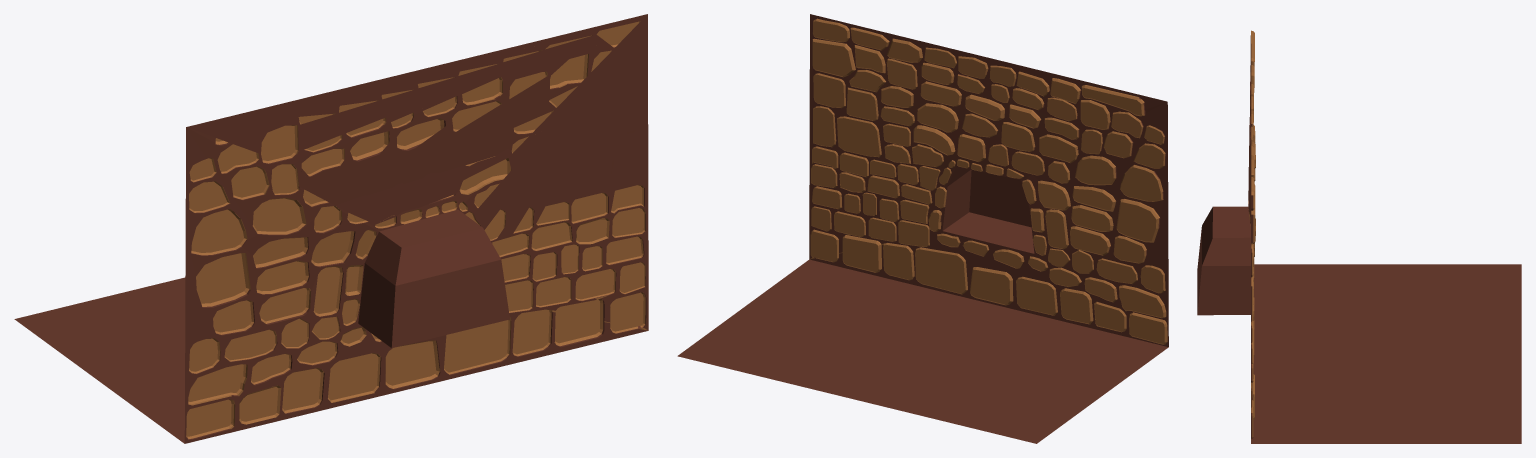
The model's file is Pech.fbx.
3 views of the same model, side by side, from view 1: azimuth 30°, elevation 25°; view 2: azimuth 150°, elevation 25°; view 3: azimuth 270°, elevation 25° (orthographic). The views are drawn at different scales.
Parts seen in each view (by area): view 1: Pech; view 2: Pech; view 3: Pech.
Boxes of the visible parts, x1,y1,x2,y2 form: Pech: (14, 14, 648, 443); Pech: (677, 14, 1168, 443); Pech: (1197, 30, 1521, 443).
Size of the model in its own units: 1994 by 1302 by 1522.
